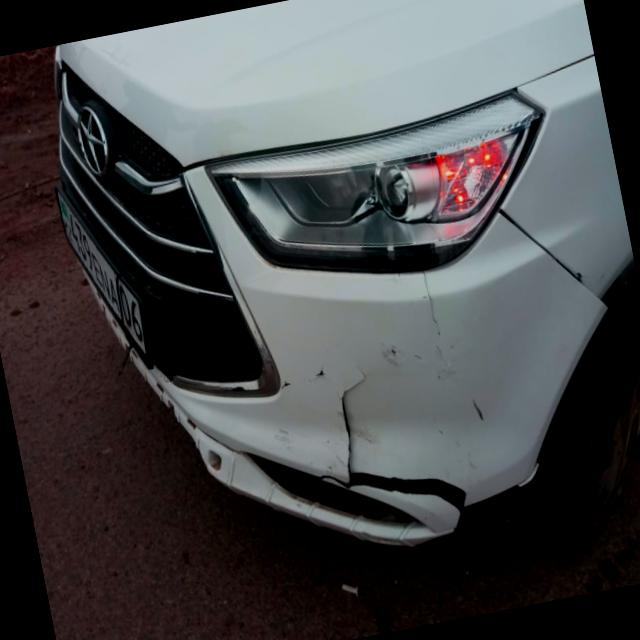Dechirure: (322, 371, 390, 488), (420, 270, 463, 365)
Rayure: (279, 361, 336, 393), (467, 388, 494, 436)
